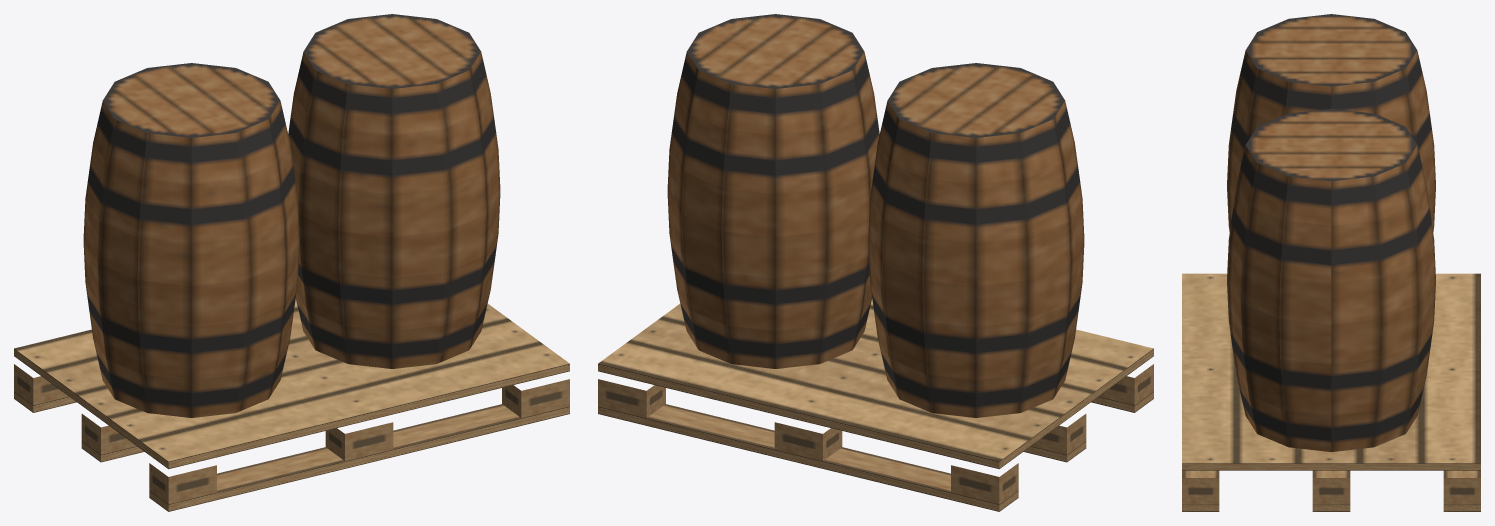
Rendered from paleta_sudy.glb.
3 views of the same model, side by side, from view 1: azimuth 30°, elevation 25°; view 2: azimuth 150°, elevation 25°; view 3: azimuth 270°, elevation 25° (orthographic). The views are drawn at different scales.
Parts seen in each view (by area): view 1: paleta_sudy; view 2: paleta_sudy; view 3: paleta_sudy.
Part boxes in pixels (left/top/right/bottom): paleta_sudy: left=14, top=14, right=569, bottom=511; paleta_sudy: left=598, top=14, right=1153, bottom=511; paleta_sudy: left=1182, top=14, right=1480, bottom=511.
Bounding box in the file's own units: 1.2 × 0.944 × 0.8.
Materials: 1 (1 with a texture image).
